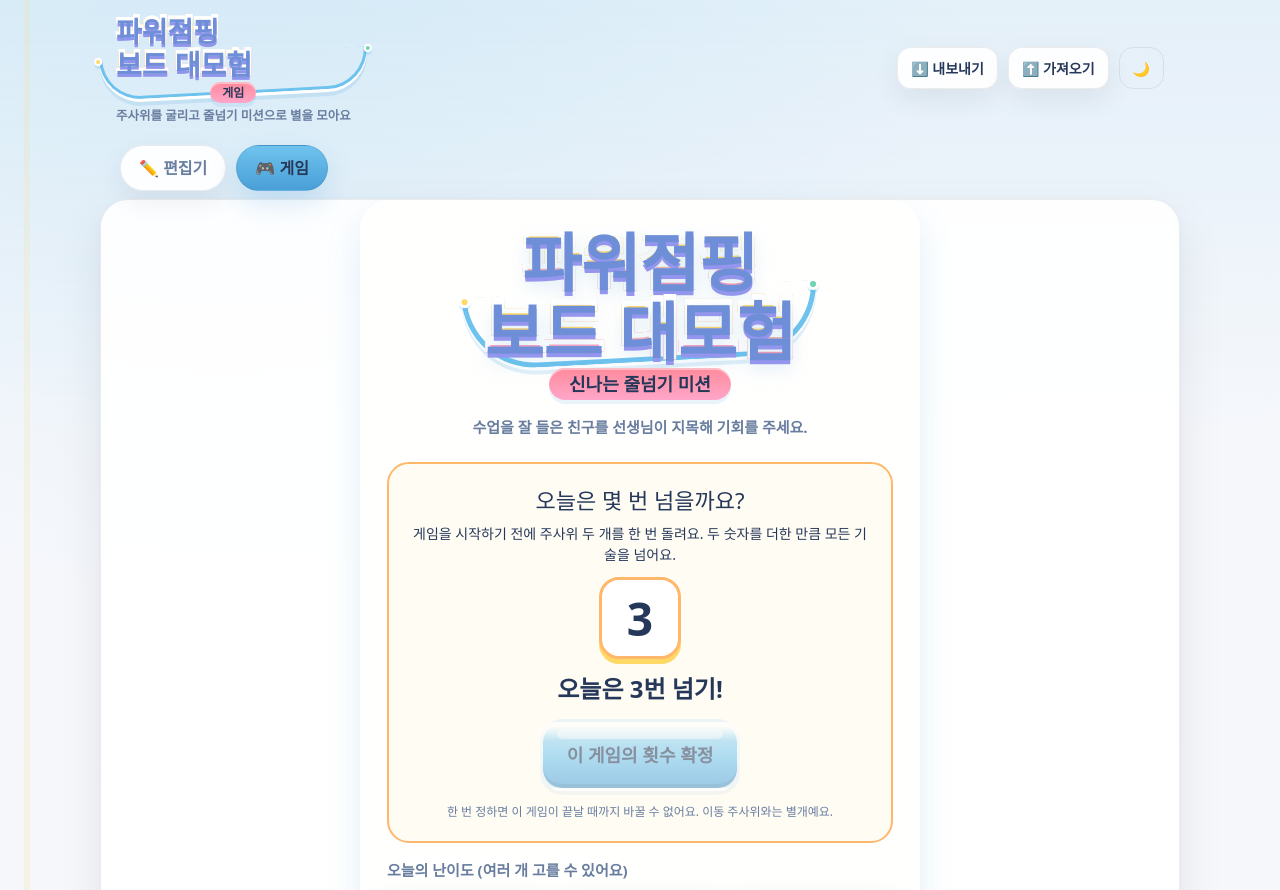
Test case: App shell — default 게임 entry (D-10) › keeps the 편집기 reachable via the mode switch
What coordinates should you click on to do the following:
click the button "✏️ 편집기"
I would click on:
 (173, 168)
Its box is [120,145,226,191].
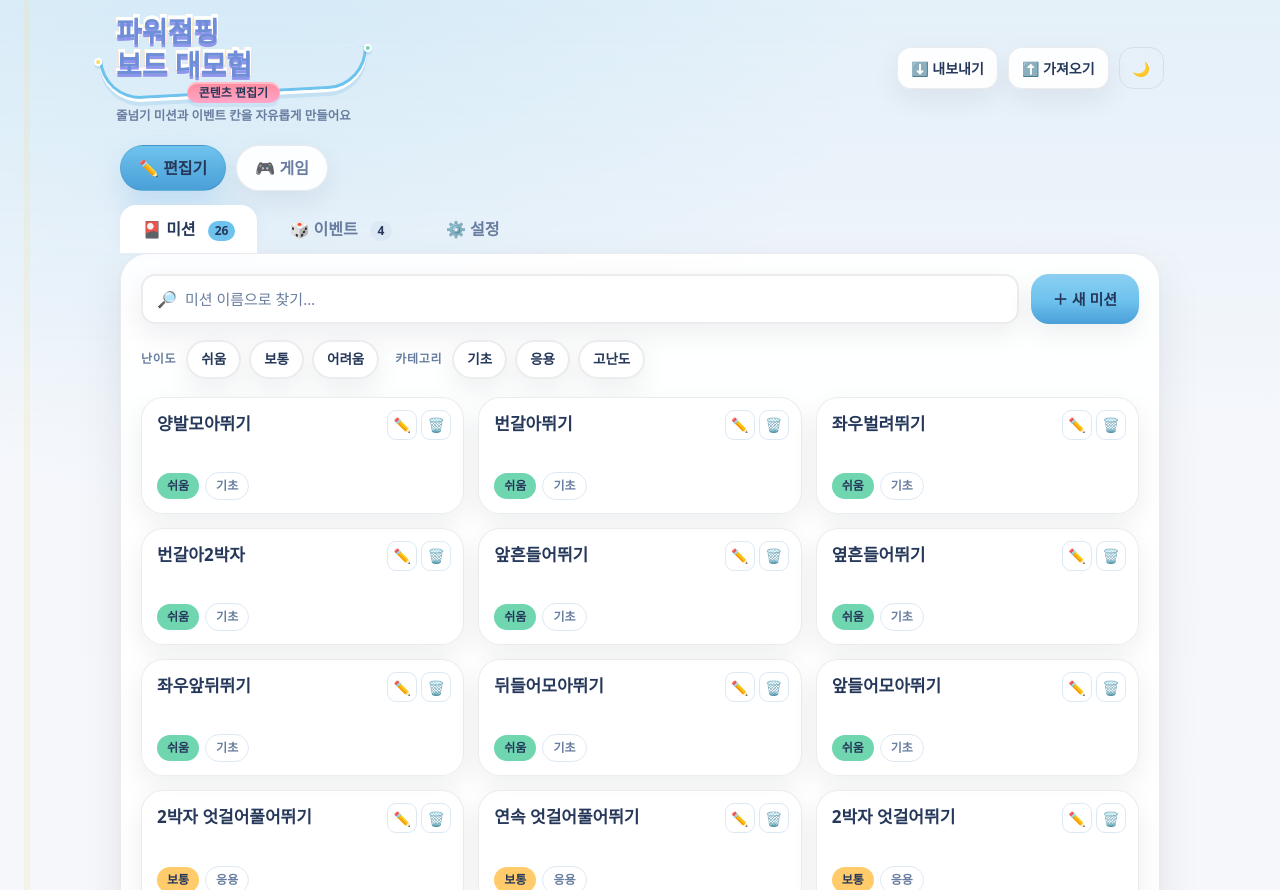
Expected: the text "양발모아뛰기" is shown, [157,412,251,434]
